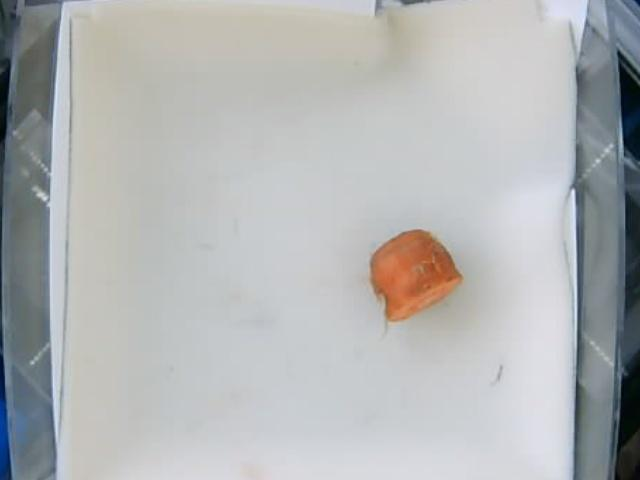Carrot: (368, 229, 462, 317)
